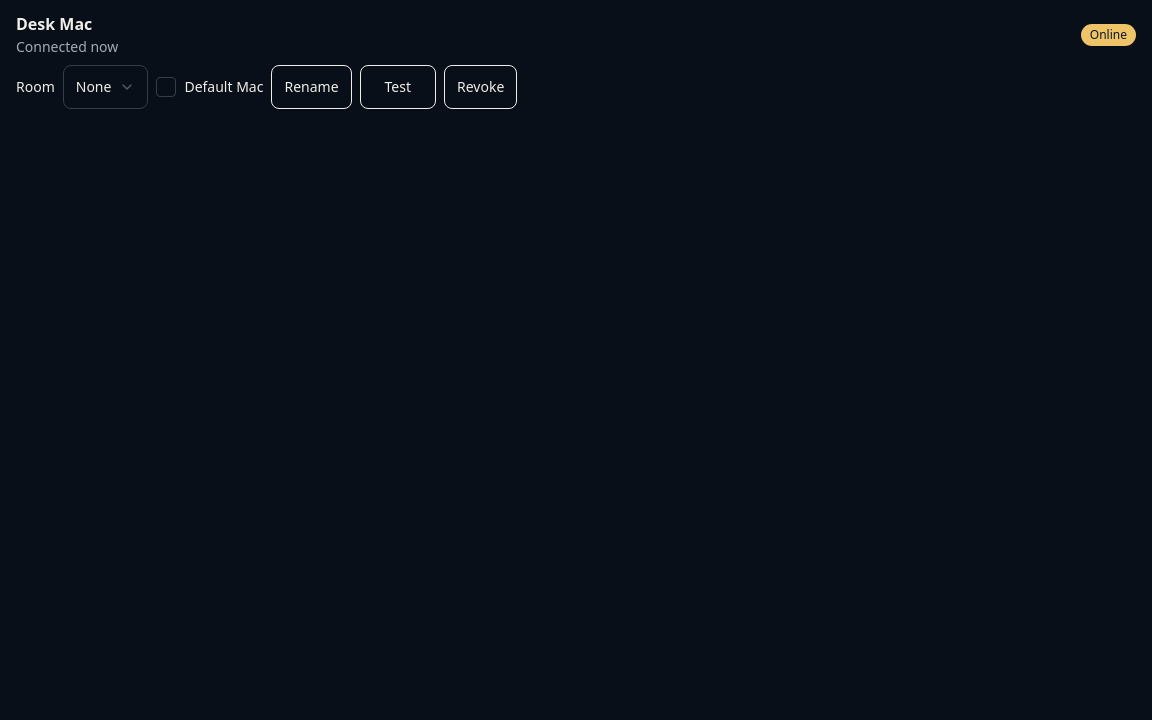
Test: a failed revoke shows the fallback line under the row
The width and height of the screenshot is (1152, 720).
Click the button "Revoke" at (481, 87), box [444, 65, 517, 109]
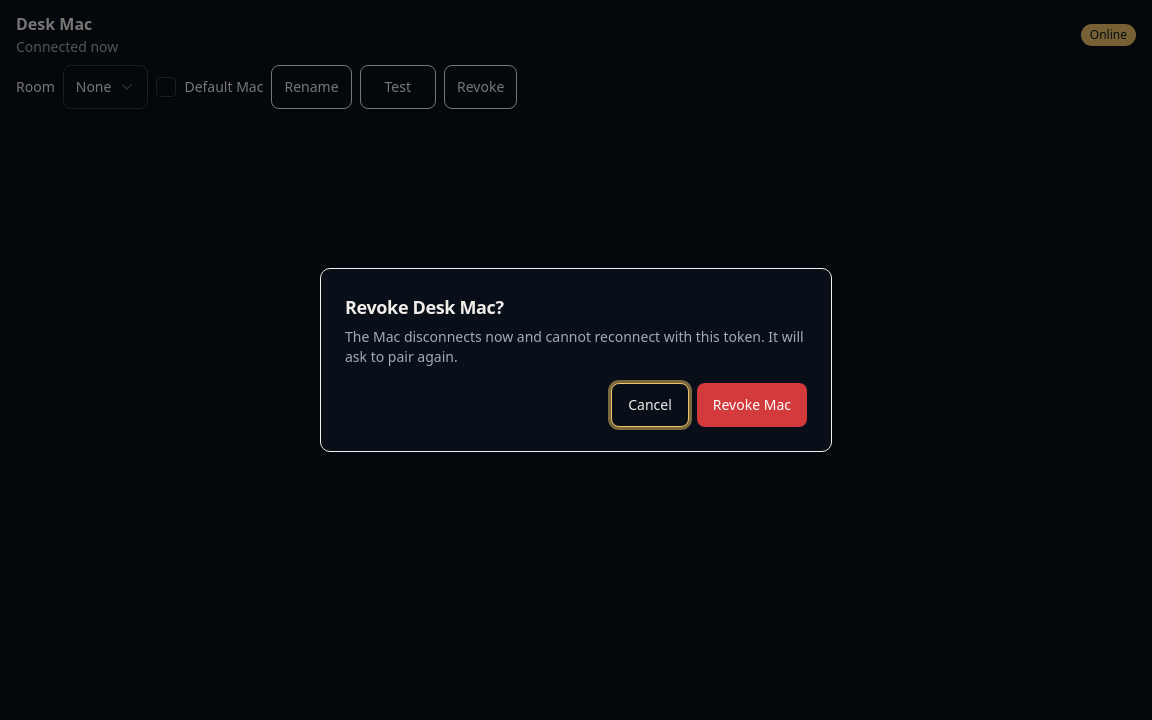
Result: the heading "Revoke Desk Mac?" is shown at [345, 293, 504, 321]
Click the button "Revoke Mac" at (752, 405), box [697, 383, 807, 427]
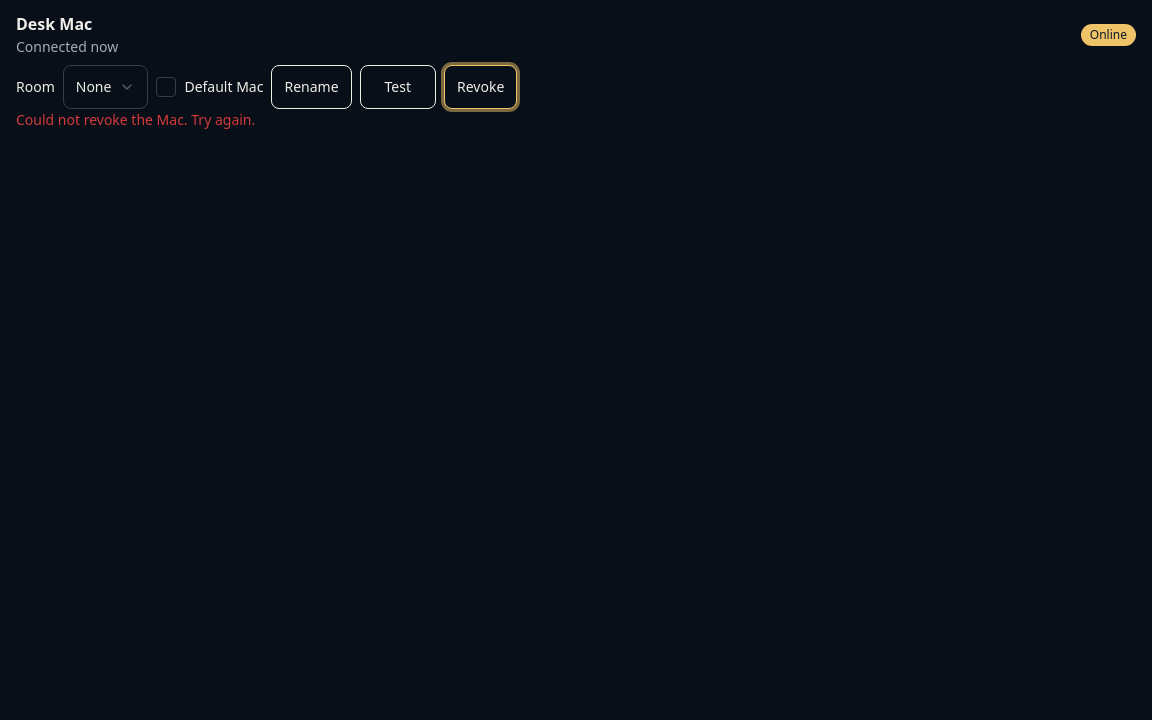
Result: the text "Could not revoke the Mac. Try again." is shown at [16, 110, 255, 129]
